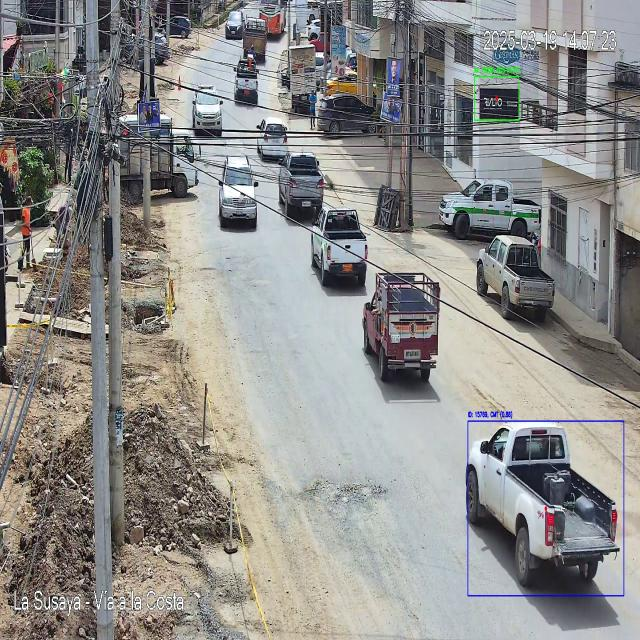CMT: (466, 421, 620, 584), (362, 272, 442, 384), (309, 202, 368, 292), (278, 150, 323, 219)
